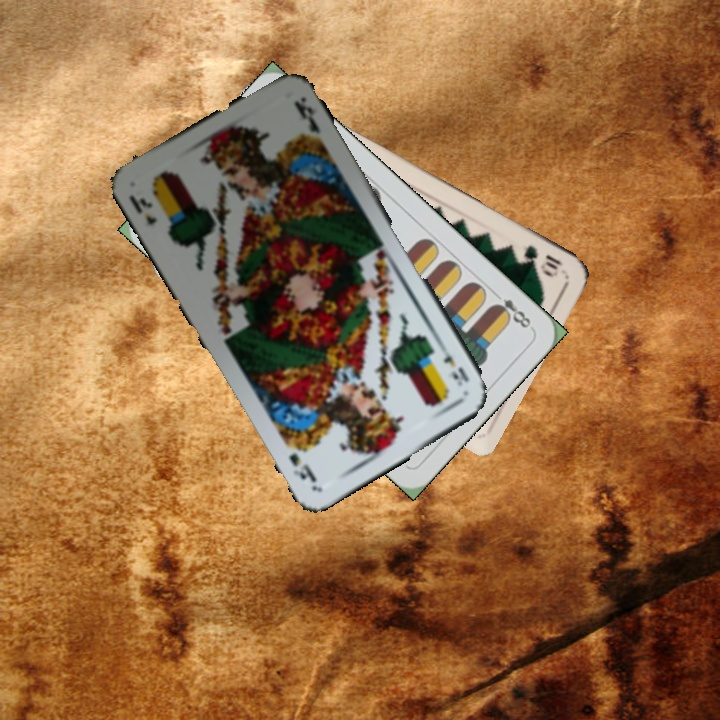E8: (488, 287, 534, 331)
EK: (435, 339, 472, 389), (125, 190, 160, 228)
G10: (519, 241, 566, 279)
